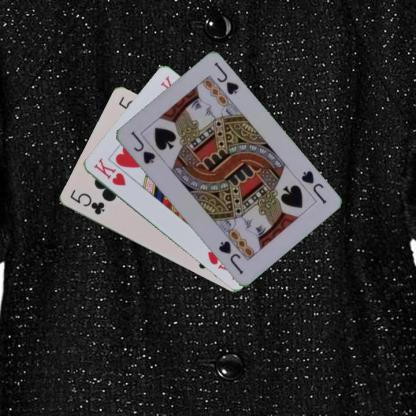5c: (67, 187, 106, 216)
Js: (128, 128, 164, 166), (298, 167, 328, 205)
Kh: (91, 155, 127, 188)
